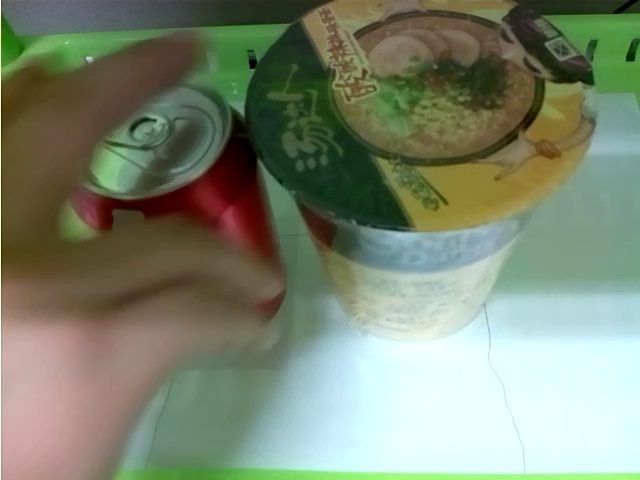cocacola: (77, 85, 287, 317)
hand: (1, 32, 245, 477)
noodles: (245, 1, 596, 347)
